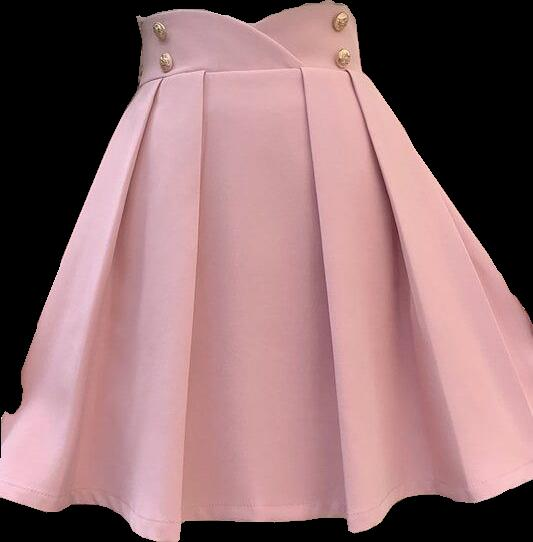Hemline: (0, 480, 532, 541)
Waistline: (137, 6, 308, 63), (136, 64, 368, 90), (251, 0, 343, 27)
